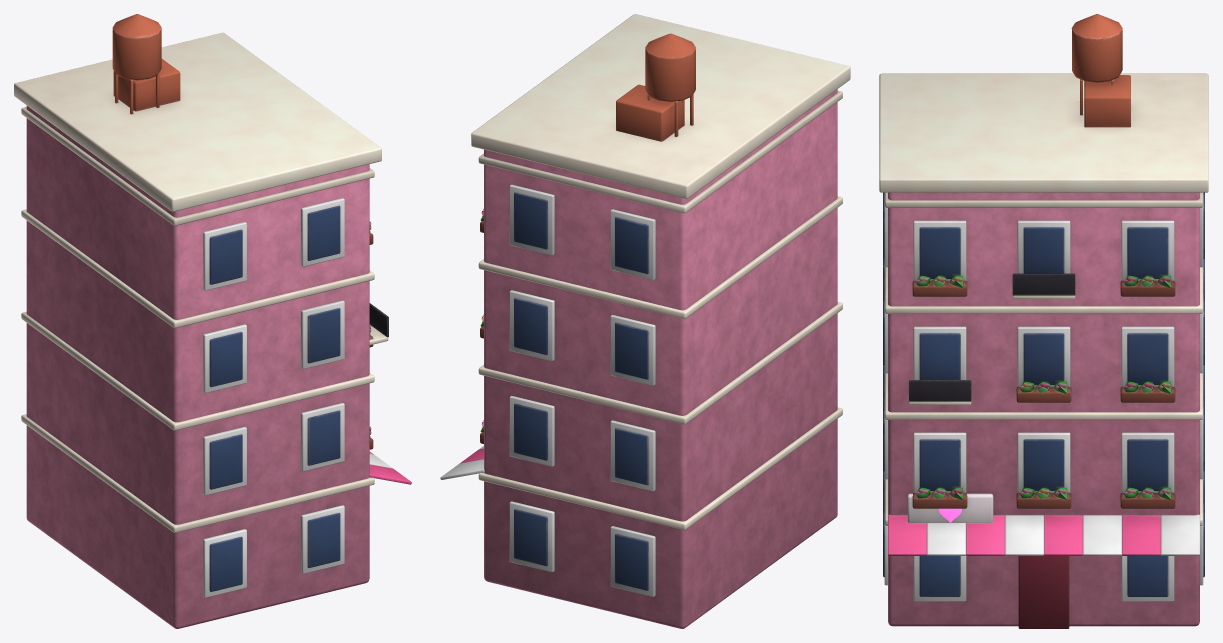
File: rc_building_a.glb
3 renders of one model, left to right at view 1: azimuth 30°, elevation 25°; view 2: azimuth 150°, elevation 25°; view 3: azimuth 270°, elevation 25°, orthographic. The views are drawn at different scales.
Visible parts, largest first — view 1: rc_building_a; view 2: rc_building_a; view 3: rc_building_a.
Part boxes in pixels (x1,y1,x2,y2): rc_building_a: [14, 14, 411, 628]; rc_building_a: [440, 14, 850, 628]; rc_building_a: [879, 14, 1208, 628].
Bounding box in the file's own units: 7.48 × 15.45 × 8.45.
Materials: 17 (17 with a texture image).
